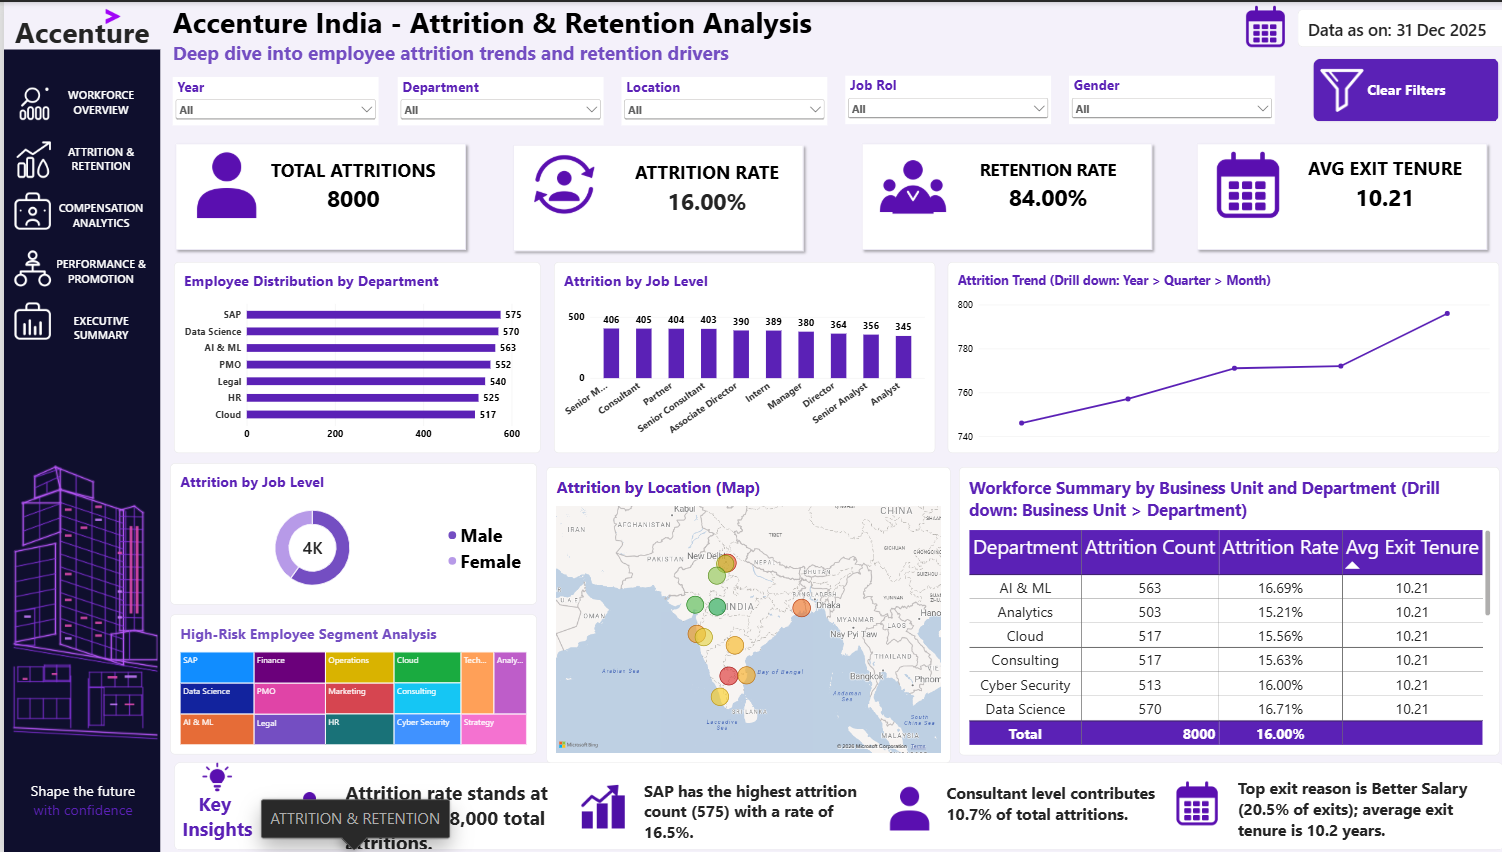

This screenshot's page, from the dashboard's own definition file:
{"tool":"powerbi","page":{"name":"ATTRITION & RETENTION","canvas":[2560,1440],"ordinal":1},"visuals":[{"type":"group","id":"g1","title":"Group 2","box":[0,0,264.6,1440.4],"z":0},{"type":"cardVisual","fields":{"Data":["MeasureTable.Data As On"]},"box":[2182.8,12.7,367,63.3],"z":0,"group":"g8"},{"type":"shape","box":[0,80.1,263.6,1360.3],"z":0,"group":"g1"},{"type":"shape","box":[280.4,229.8,507.6,197.2],"z":0,"group":"g3"},{"type":"shape","box":[1438.2,229.8,507.6,197.2],"z":0,"group":"g5"},{"type":"shape","box":[2003.9,229.8,507.6,197.2],"z":0,"group":"g4"},{"type":"shape","box":[849.7,230.6,507.6,197.2],"z":0,"group":"g6"},{"type":"image","box":[2073.4,0,110.3,81.5],"z":1000,"group":"g8"},{"type":"textbox","box":[0,16.2,264.3,64.7],"z":1000,"group":"g1"},{"type":"group","id":"g2","title":"Group 3","box":[2209.1,84.1,315.9,122.7],"z":1000},{"type":"cardVisual","fields":{"Data":["MeasureTable.Attrition Count"]},"box":[344,212.5,491.4,194.2],"z":1000,"group":"g3"},{"type":"cardVisual","fields":{"Data":["MeasureTable.Attrition Rate"]},"box":[941.4,212.5,491.4,203.7],"z":1000,"group":"g6"},{"type":"cardVisual","fields":{"Data":["Sum(MeasureTable.Retention Rate)"]},"box":[1528.8,212.5,465,194.2],"z":1000,"group":"g5"},{"type":"cardVisual","fields":{"Data":["Sum(MeasureTable.Avg Exit Tenure)"]},"box":[2102.4,212.5,455.4,189.4],"z":1000,"group":"g4"},{"type":"image","box":[163.6,0,37.8,48.5],"z":2000,"group":"g1"},{"type":"textbox","box":[285.2,0,1311.2,110.3],"z":2000},{"type":"image","box":[300.2,241.7,152.9,130.7],"z":2000,"group":"g3"},{"type":"image","box":[1458,241.7,152.9,130.7],"z":2000,"group":"g5"},{"type":"image","box":[2023.7,241.7,152.9,130.7],"z":2000,"group":"g4"},{"type":"image","box":[869.5,242.5,152.9,130.7],"z":2000,"group":"g6"},{"type":"slicer","fields":{"Values":["DimDate.Date.Variation.Date Hierarchy.Year"]},"box":[285.2,127,347.6,81.5],"z":3000},{"type":"slicer","fields":{"Values":["DimDepartment.DepartmentName"]},"box":[663.4,126.4,347.6,81.5],"z":4000},{"type":"image","box":[2.1,761.3,261.5,508.3],"z":4000,"group":"g1"},{"type":"slicer","fields":{"Values":["DimLocation.City"]},"box":[1041.5,125.8,347.6,81.5],"z":5000},{"type":"image","box":[2.1,132.9,99.1,73.8],"z":5000,"group":"g1"},{"type":"slicer","fields":{"Values":["DimJobLevel.JobLevel"]},"box":[1419.6,124.6,347.6,81.5],"z":6000},{"type":"image","box":[4.2,227.8,97,78],"z":6000,"group":"g1"},{"type":"slicer","fields":{"Values":["DimEmployee.Gender"]},"box":[1797.8,125.2,347.6,81.5],"z":7000},{"type":"image","box":[0,310,97,82.2],"z":7000,"group":"g1"},{"type":"group","id":"g3","title":"Group 1","box":[280.4,212.5,555,214.5],"z":8000},{"type":"image","box":[0,411.2,97,82.2],"z":8000,"group":"g1"},{"type":"group","id":"g4","title":"Group 1","box":[2003.9,212.5,554,214.5],"z":9000},{"type":"image","box":[0,495.6,97,82.2],"z":9000,"group":"g1"},{"type":"pageNavigator","box":[62.3,127,201.3,469.8],"z":10000,"group":"g1"},{"type":"group","id":"g5","title":"Group 1","box":[1438.2,212.5,555.6,214.5],"z":10000},{"type":"group","id":"g6","title":"Group 1","box":[849.7,212.5,583.1,215.3],"z":11000},{"type":"textbox","box":[2.1,1313.9,262.5,75.5],"z":11000,"group":"g1"},{"type":"clusteredBarChart","title":"Employee Distribution by Department","fields":{"Category":["DimDepartment.DepartmentName"],"Y":["MeasureTable.Attrition Count"]},"box":[286.4,438.6,618.2,322.7],"z":12000},{"type":"clusteredColumnChart","title":"Attrition by Job Level","fields":{"Category":["DimJobLevel.JobLevel"],"Y":["MeasureTable.Attrition Count"]},"box":[927.3,438.6,643.2,322.7],"z":13000},{"type":"lineChart","title":"Attrition Trend (Drill down: Year > Quarter > Month)","fields":{"Category":["FactAttrition.AttritionReason"],"Y":["MeasureTable.Attrition Count"]},"box":[1593.2,438.6,931.8,322.7],"z":14000},{"type":"donutChart","title":"Attrition by Job Level","fields":{"Category":["DimEmployee.Gender"],"Y":["MeasureTable.Attrition Count"]},"box":[279.5,777.3,618.2,238.6],"z":15000},{"type":"treemap","title":"High-Risk Employee Segment Analysis","fields":{"Group":["DimDepartment.DepartmentName"],"Values":["MeasureTable.Attrition Count"]},"box":[279.5,1034.1,618.2,236.4],"z":16000},{"type":"map","title":"Attrition by Location (Map)","fields":{"Category":["DimLocation.City"],"Size":["MeasureTable.Attrition Count"]},"box":[915.9,784.1,681.8,500],"z":17000},{"type":"tableEx","title":"Workforce Summary by Business Unit and Department (Drill down: Business Unit > Department)","fields":{"Values":["DimDepartment.DepartmentName","MeasureTable.Attrition Count","MeasureTable.Attrition Rate","MeasureTable.Avg Exit Tenure"]},"box":[1611.4,784.1,913.6,486.4],"z":18000},{"type":"shape","box":[286.4,1284.1,2245.5,150],"z":19000,"group":"g7"},{"type":"textbox","box":[236.4,1331.9,247.7,109.1],"z":20000,"group":"g7"},{"type":"image","box":[329.6,1270.5,61.4,81.8],"z":21000,"group":"g7"},{"type":"image","box":[472.8,1316,86.4,88.6],"z":22000,"group":"g7"},{"type":"textbox","box":[575,1313.7,365.9,127.3],"z":23000,"group":"g7"},{"type":"image","box":[968.2,1316,86.4,88.6],"z":24000,"group":"g7"},{"type":"textbox","box":[1079.6,1313.7,397.7,120.5],"z":25000,"group":"g7"},{"type":"image","box":[1484.1,1316,86.4,88.6],"z":26000,"group":"g7"},{"type":"textbox","box":[1590.9,1316,352.3,118.2],"z":27000,"group":"g7"},{"type":"actionButton","box":[2209.1,93.7,316.4,107.9],"z":28000,"group":"g2"},{"type":"image","box":[1970.5,1309.1,86.4,88.6],"z":28000,"group":"g7"},{"type":"image","box":[2209.1,84.1,98.3,122.2],"z":29000,"group":"g2"},{"type":"textbox","box":[2081.9,1309.1,429.5,125],"z":29000,"group":"g7"},{"type":"group","id":"g7","title":"Group 4","box":[236.4,1270.5,2295.5,170.5],"z":29001},{"type":"group","id":"g8","title":"Group 3","box":[2073.4,0,476.3,81.5],"z":29002}]}

Visuals, with their boxes on the page's 2560x1440 design canvas (x1, y1, x2, y2). These are canvas units, not pixel positions in the 1502x852 screenshot, which may show the page scaled, cropped or inside an application window:
"Group 2" group: locate(0, 0, 265, 1440)
cardVisual - MeasureTable.Data As On: locate(2183, 13, 2550, 76)
shape: locate(0, 80, 264, 1440)
shape: locate(280, 230, 788, 427)
shape: locate(1438, 230, 1946, 427)
shape: locate(2004, 230, 2512, 427)
shape: locate(850, 231, 1357, 428)
image: locate(2073, 0, 2184, 82)
textbox: locate(0, 16, 264, 81)
"Group 3" group: locate(2209, 84, 2525, 207)
cardVisual - MeasureTable.Attrition Count: locate(344, 212, 835, 407)
cardVisual - MeasureTable.Attrition Rate: locate(941, 212, 1433, 416)
cardVisual - Sum(MeasureTable.Retention Rate): locate(1529, 212, 1994, 407)
cardVisual - Sum(MeasureTable.Avg Exit Tenure): locate(2102, 212, 2558, 402)
image: locate(164, 0, 201, 48)
textbox: locate(285, 0, 1596, 110)
image: locate(300, 242, 453, 372)
image: locate(1458, 242, 1611, 372)
image: locate(2024, 242, 2177, 372)
image: locate(870, 242, 1022, 373)
slicer - DimDate.Date.Variation.Date Hierarchy.Year: locate(285, 127, 633, 208)
slicer - DimDepartment.DepartmentName: locate(663, 126, 1011, 208)
image: locate(2, 761, 264, 1270)
slicer - DimLocation.City: locate(1042, 126, 1389, 207)
image: locate(2, 133, 101, 207)
slicer - DimJobLevel.JobLevel: locate(1420, 125, 1767, 206)
image: locate(4, 228, 101, 306)
slicer - DimEmployee.Gender: locate(1798, 125, 2145, 207)
image: locate(0, 310, 97, 392)
"Group 1" group: locate(280, 212, 835, 427)
image: locate(0, 411, 97, 493)
"Group 1" group: locate(2004, 212, 2558, 427)
image: locate(0, 496, 97, 578)
pageNavigator: locate(62, 127, 264, 597)
"Group 1" group: locate(1438, 212, 1994, 427)
"Group 1" group: locate(850, 212, 1433, 428)
textbox: locate(2, 1314, 265, 1389)
"Employee Distribution by Department" clusteredBarChart: locate(286, 439, 905, 761)
"Attrition by Job Level" clusteredColumnChart: locate(927, 439, 1570, 761)
"Attrition Trend (Drill down: Year > Quarter > Month)" lineChart: locate(1593, 439, 2525, 761)
"Attrition by Job Level" donutChart: locate(280, 777, 898, 1016)
"High-Risk Employee Segment Analysis" treemap: locate(280, 1034, 898, 1270)
"Attrition by Location (Map)" map: locate(916, 784, 1598, 1284)
"Workforce Summary by Business Unit and Department (Drill down: Business Unit > Department)" tableEx: locate(1611, 784, 2525, 1270)
shape: locate(286, 1284, 2532, 1434)
textbox: locate(236, 1332, 484, 1441)
image: locate(330, 1270, 391, 1352)
image: locate(473, 1316, 559, 1405)
textbox: locate(575, 1314, 941, 1441)
image: locate(968, 1316, 1055, 1405)
textbox: locate(1080, 1314, 1477, 1434)
image: locate(1484, 1316, 1570, 1405)
textbox: locate(1591, 1316, 1943, 1434)
actionButton: locate(2209, 94, 2526, 202)
image: locate(1970, 1309, 2057, 1398)
image: locate(2209, 84, 2307, 206)
textbox: locate(2082, 1309, 2511, 1434)
"Group 4" group: locate(236, 1270, 2532, 1441)
"Group 3" group: locate(2073, 0, 2550, 82)
